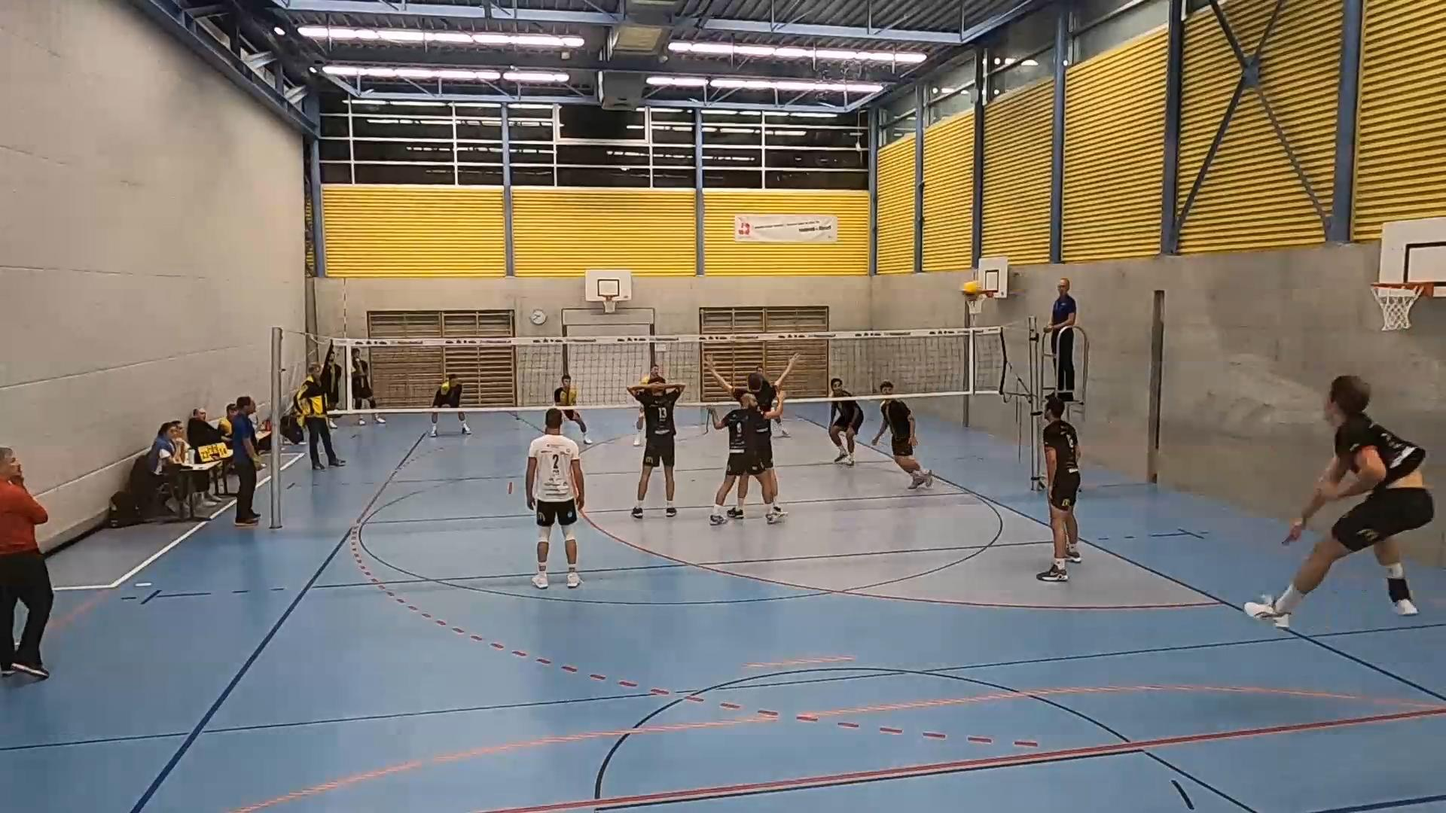Player: (526, 409, 584, 588), (709, 391, 782, 524), (1036, 394, 1081, 582), (628, 375, 685, 518), (871, 381, 933, 488), (755, 408, 784, 519), (828, 378, 864, 466), (750, 354, 798, 410), (553, 373, 591, 443), (432, 373, 463, 409), (633, 409, 645, 446)
Serve: (1243, 367, 1436, 636)
ball: (963, 279, 983, 297)
